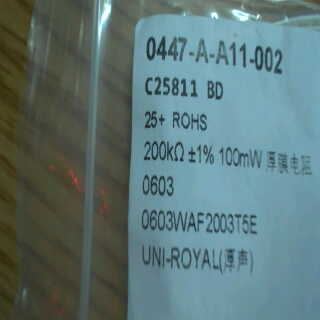200kR: (140, 139, 189, 166)
